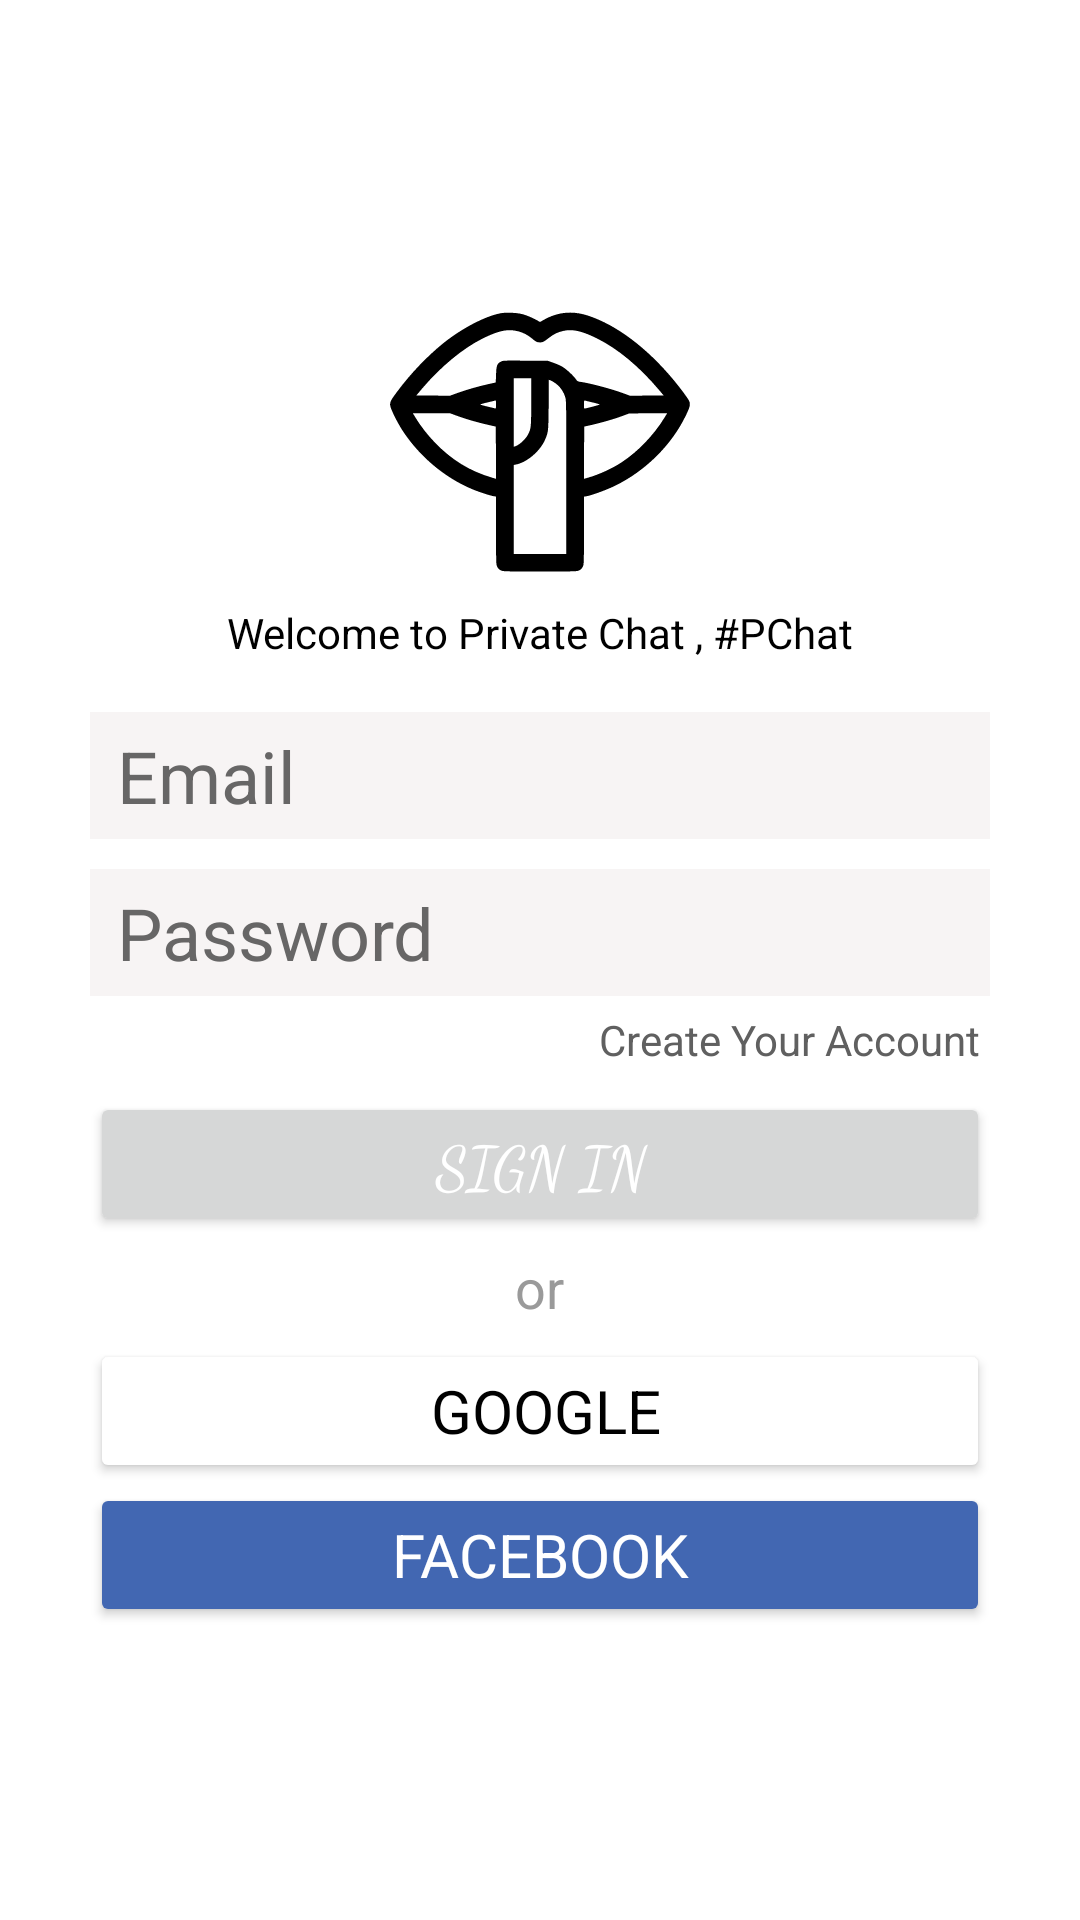

Icons on this 1080 × 1920 Android screen, each with the point to tap as [x,y]:
silence: [540,442]
